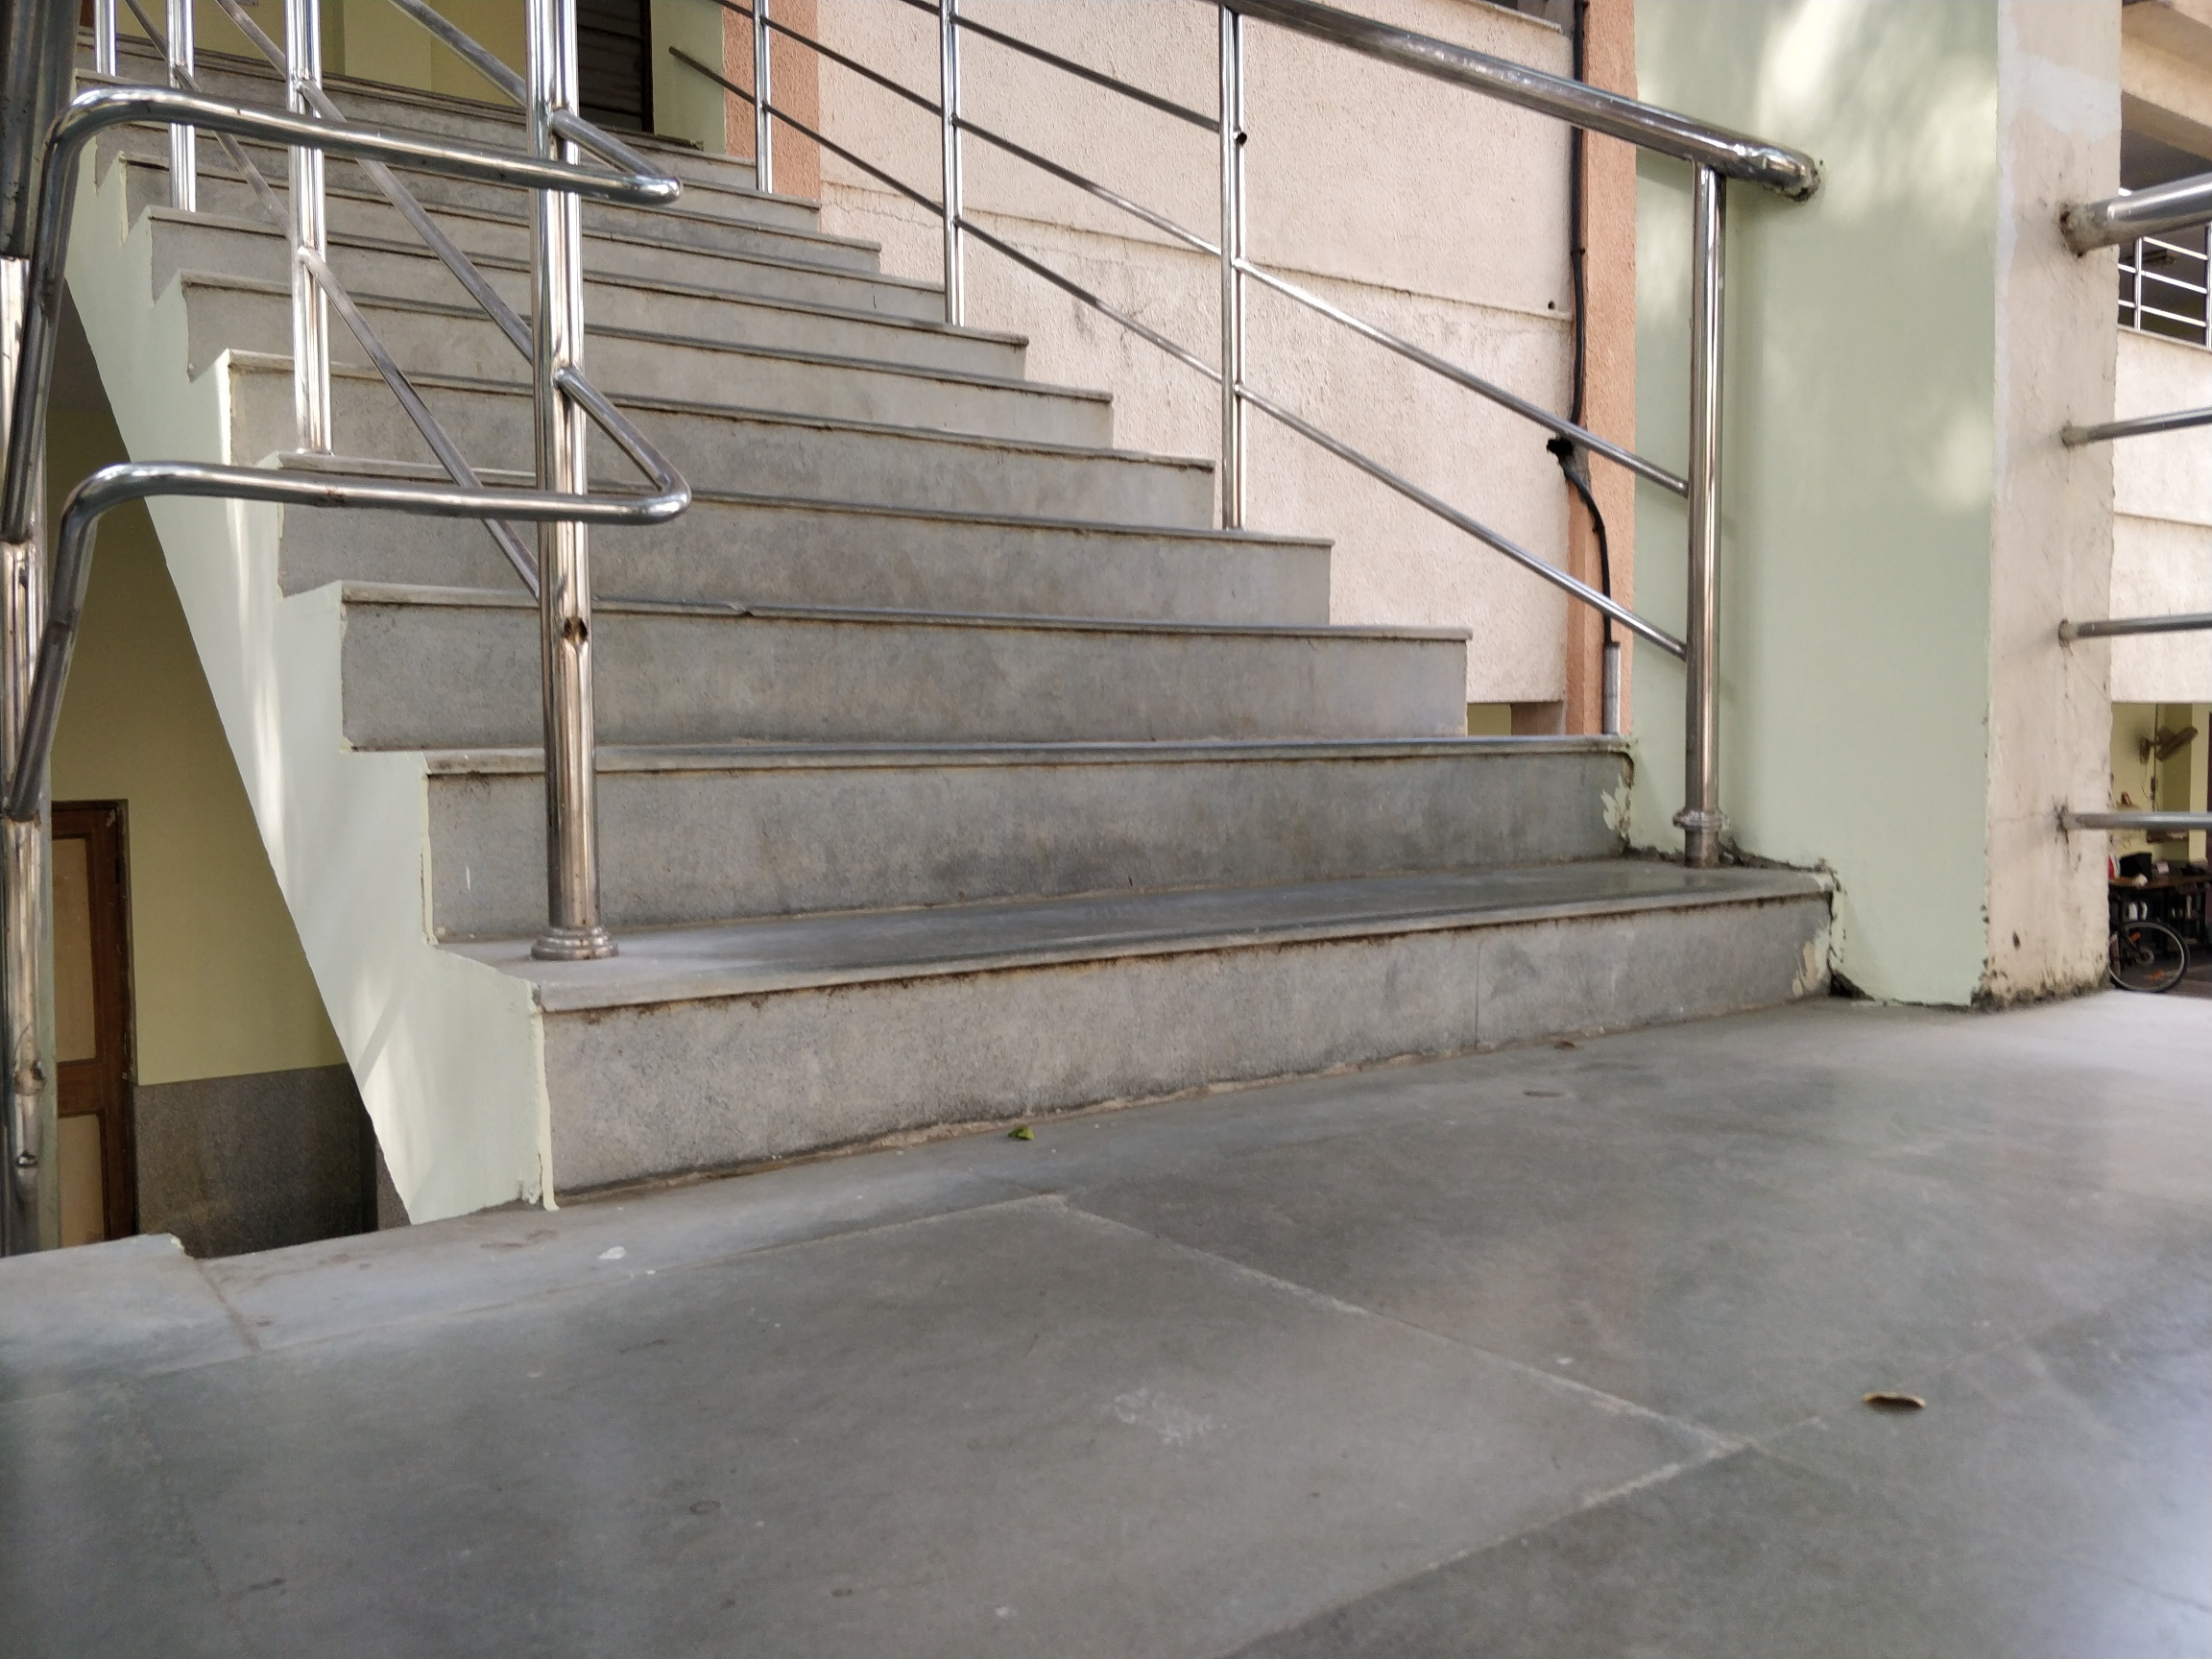stairs_up: (91, 17, 1843, 1209)
